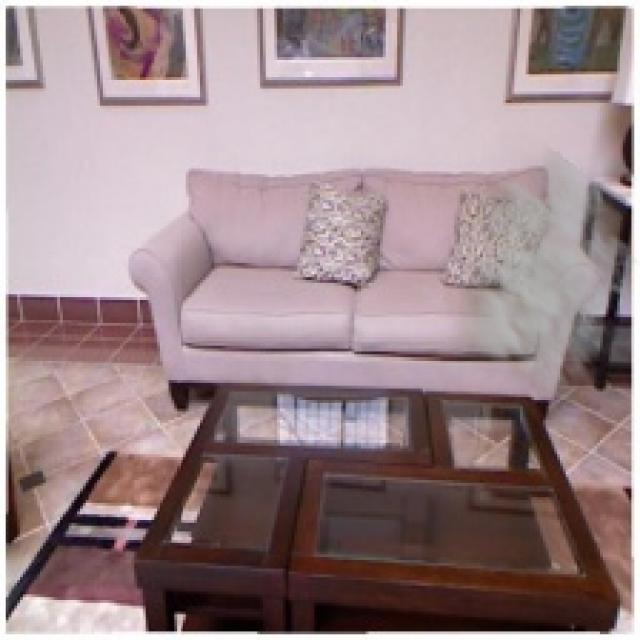smoke: (434, 140, 637, 411)
